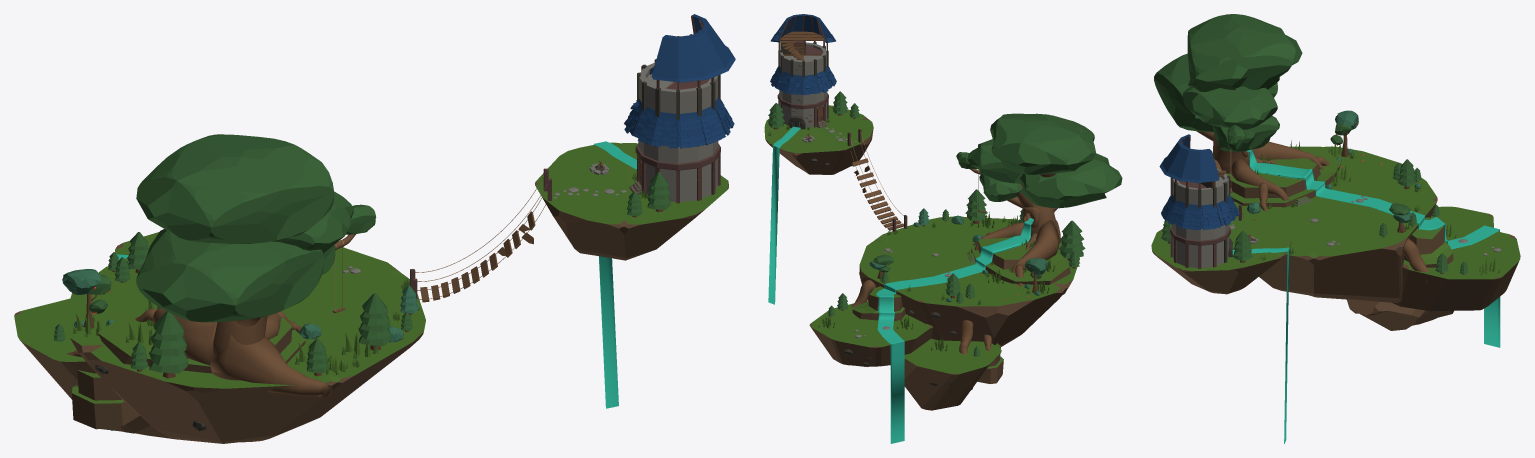
Rendered from little floating lopolyworld6.fbx.
3 views of the same model, side by side, from view 1: azimuth 30°, elevation 25°; view 2: azimuth 150°, elevation 25°; view 3: azimuth 270°, elevation 25° (orthographic). The views are drawn at different scales.
Visible parts, largest first — view 1: Cube, Cube.049, Cube.051, Cube.010, Cylinder.011, Cube.002, Cylinder.021, Cone.235, Cube.005, Cube.004, Cube.047, Cube.048 (+4 smaller); view 2: Cube, Cube.049, Cube.002, Cube.010, Cube.001, Cube.037, Cube.051, Cylinder.011, Cube.005, Cube.047, Cube.048, Cylinder.018 (+8 smaller); view 3: Cube, Cube.049, Cube.001, Cube.010, Cube.037, Cube.048, Cylinder.011, Cube.005, Cube.002, Cube.051, Cone.235, Cube.003 (+8 smaller).
Boxes of the visible parts, bbox=[...] form: Cube: bbox=[64, 247, 425, 443]; Cube.049: bbox=[136, 134, 333, 243]; Cube.051: bbox=[136, 229, 323, 322]; Cube.010: bbox=[535, 142, 728, 260]; Cylinder.011: bbox=[635, 63, 720, 201]; Cube.002: bbox=[14, 298, 178, 439]; Cylinder.021: bbox=[210, 335, 331, 397]; Cone.235: bbox=[651, 14, 735, 82]; Cube.005: bbox=[98, 308, 305, 373]; Cube.004: bbox=[72, 370, 139, 429]; Cube.047: bbox=[593, 141, 636, 408]; Cube.048: bbox=[272, 191, 353, 253]; Cube: bbox=[859, 216, 1079, 346]; Cube.049: bbox=[990, 113, 1095, 174]; Cube.002: bbox=[904, 338, 1001, 410]; Cube.010: bbox=[764, 105, 873, 174]; Cube.001: bbox=[809, 300, 933, 366]; Cube.037: bbox=[876, 218, 1033, 443]; Cube.051: bbox=[1019, 153, 1122, 208]; Cylinder.011: bbox=[777, 42, 828, 127]; Cube.005: bbox=[971, 237, 1070, 284]; Cube.047: bbox=[768, 126, 800, 304]; Cube.048: bbox=[967, 139, 1022, 183]; Cylinder.018: bbox=[1011, 220, 1059, 273]; Cube: bbox=[1233, 146, 1437, 302]; Cube.049: bbox=[1187, 14, 1302, 91]; Cube.001: bbox=[1392, 224, 1520, 311]; Cube.010: bbox=[1151, 217, 1291, 294]; Cube.037: bbox=[1247, 149, 1500, 347]; Cube.048: bbox=[1183, 86, 1277, 129]; Cylinder.011: bbox=[1170, 169, 1230, 268]; Cube.005: bbox=[1226, 146, 1341, 207]; Cube.002: bbox=[1347, 206, 1493, 330]; Cube.051: bbox=[1154, 53, 1277, 132]; Cone.235: bbox=[1159, 134, 1219, 182]; Cube.003: bbox=[1404, 217, 1453, 267].
Size of what is drawn, in the model's own units: 1101 by 846 by 858.
